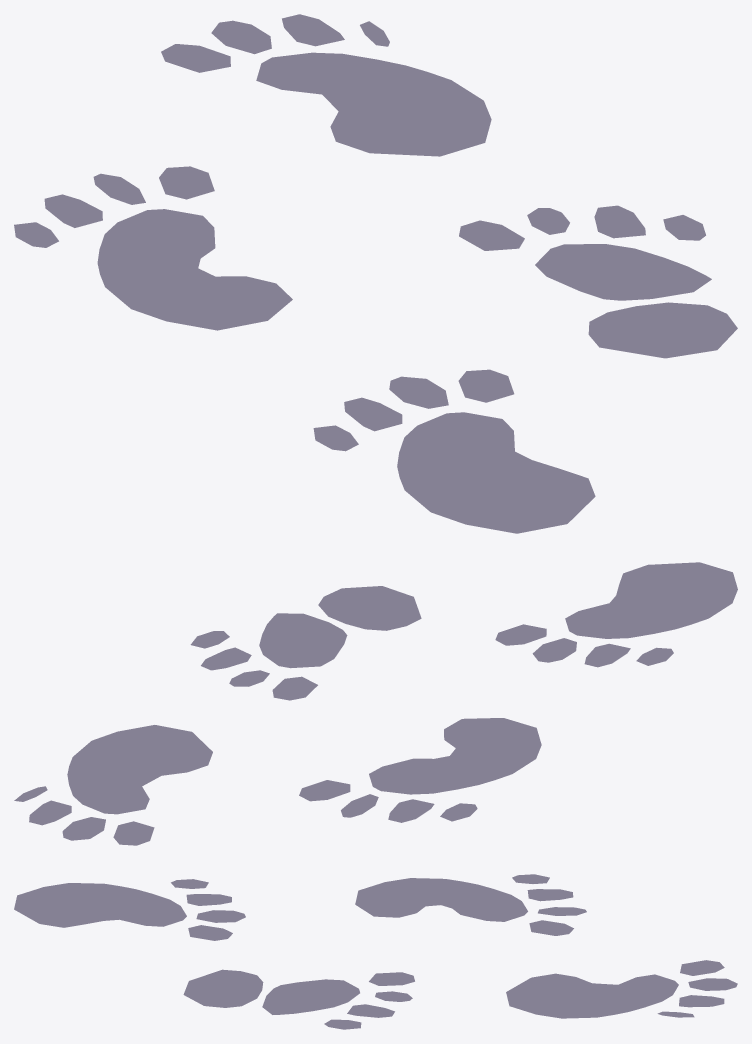
The model's file is Traces.fbx.
3 views of the same model, one above another, from view 1: azimuth 30°, elevation 25°; view 2: azimuth 150°, elevation 25°; view 3: azimuth 270°, elevation 25° (orthographic). The views are drawn at different scales.
Parts seen in each view (by area): view 1: Plane.007; view 2: Plane.007; view 3: Plane.007.
Part boxes in pixels (x1,y1,x2,y2): Plane.007: (14, 14, 737, 533); Plane.007: (14, 562, 737, 845); Plane.007: (14, 874, 737, 1029).
Size of the model in its own units: 0.3682 by 0.7247 by 8.64e-08.
